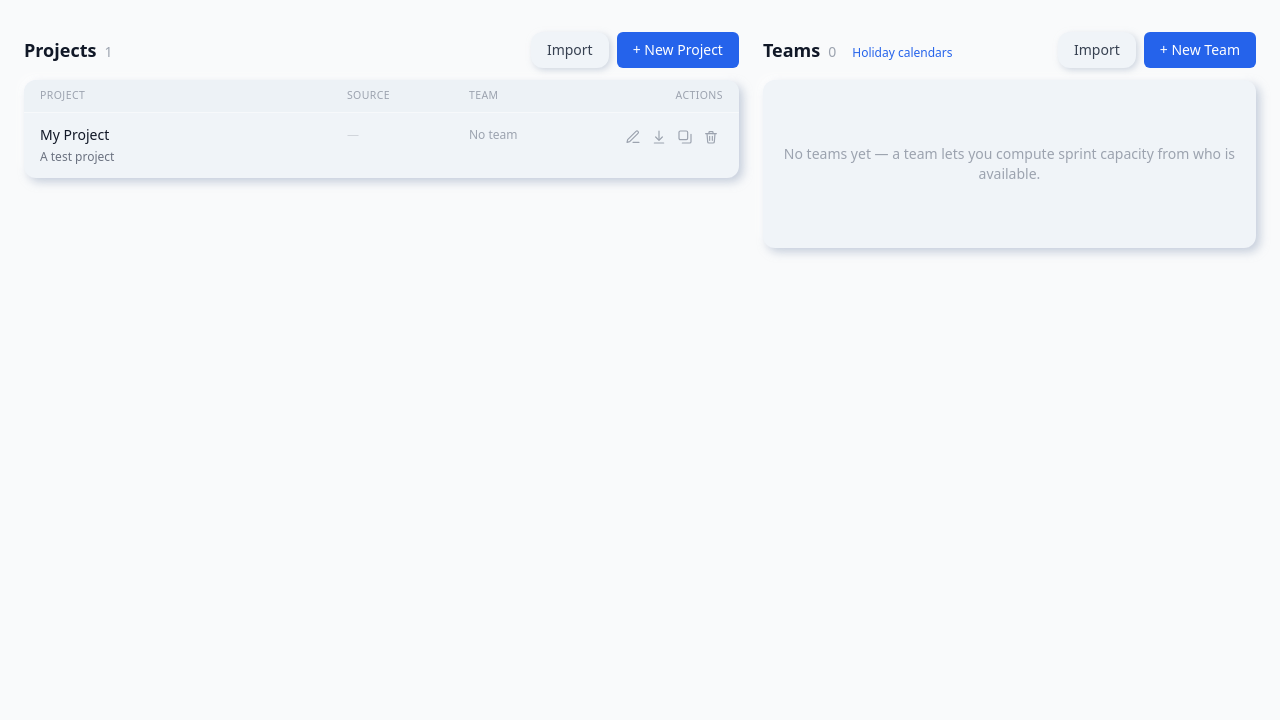
Test: ProjectListPage › shows Edit button per project and opens the edit modal with the effort unit field
Step 1. Click the button named "Edit" → (633, 137), box top-left (621, 125), bottom-right (645, 149)
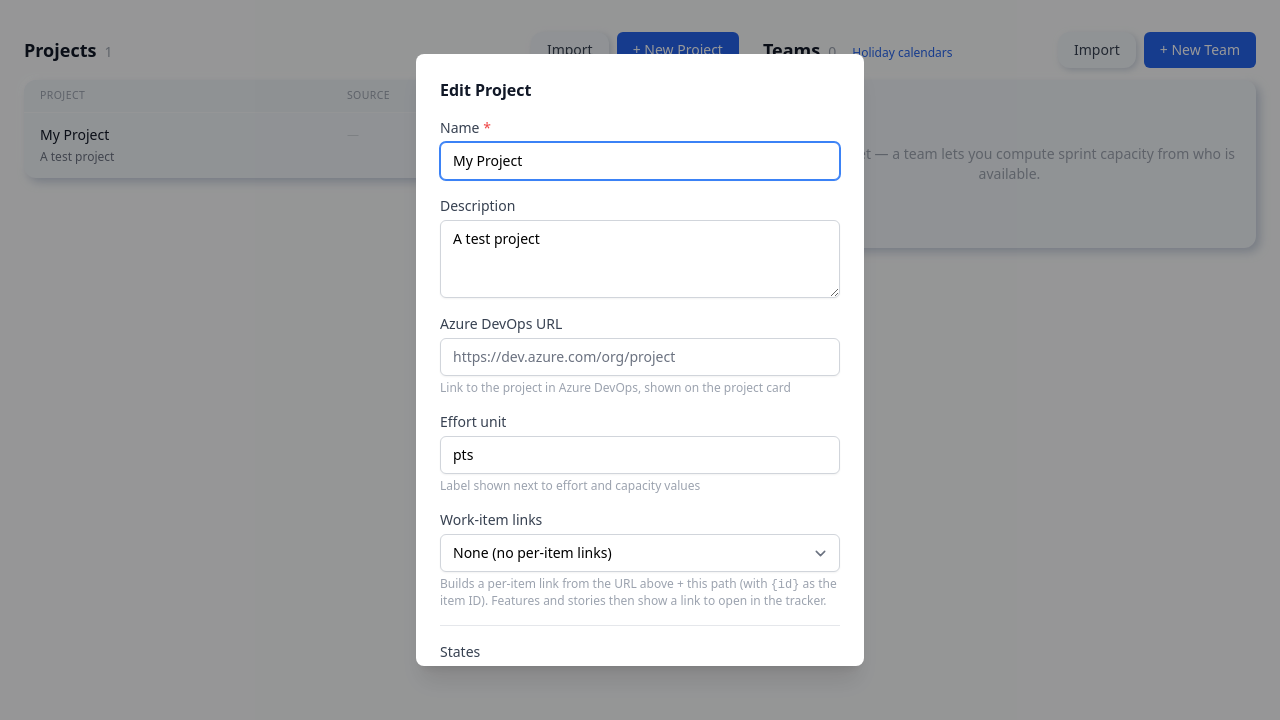
expect the dialog is shown: met, box top-left (416, 54), bottom-right (864, 666)
expect the heading "Edit Project" is shown: met, box top-left (440, 79), bottom-right (532, 101)
expect the field labelled "Effort unit" is shown: met, box top-left (440, 436), bottom-right (840, 474)
